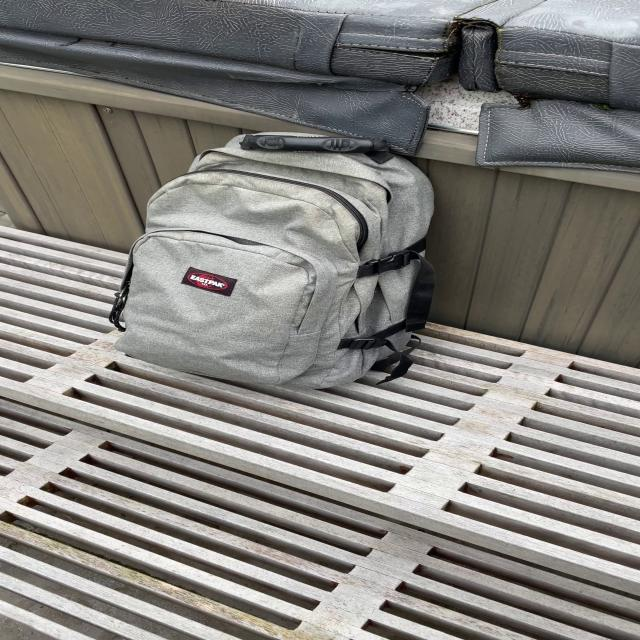backpack: (101, 124, 449, 398)
